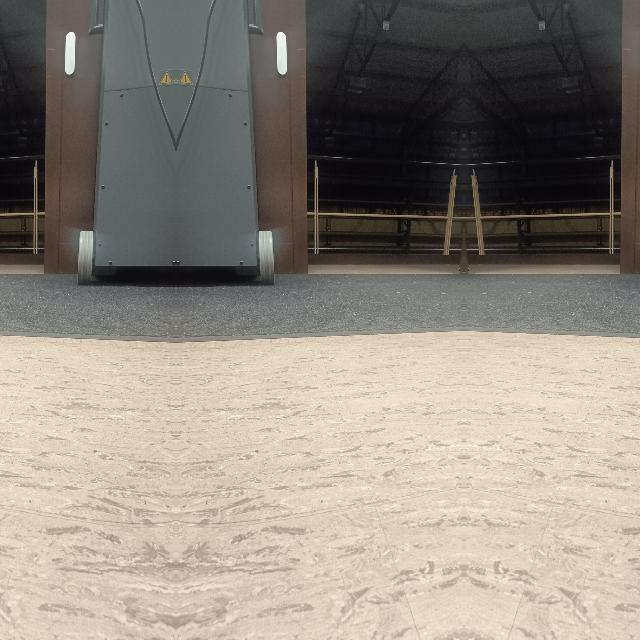obstacle: (175, 111, 311, 275), (39, 111, 175, 275), (616, 111, 640, 275)
